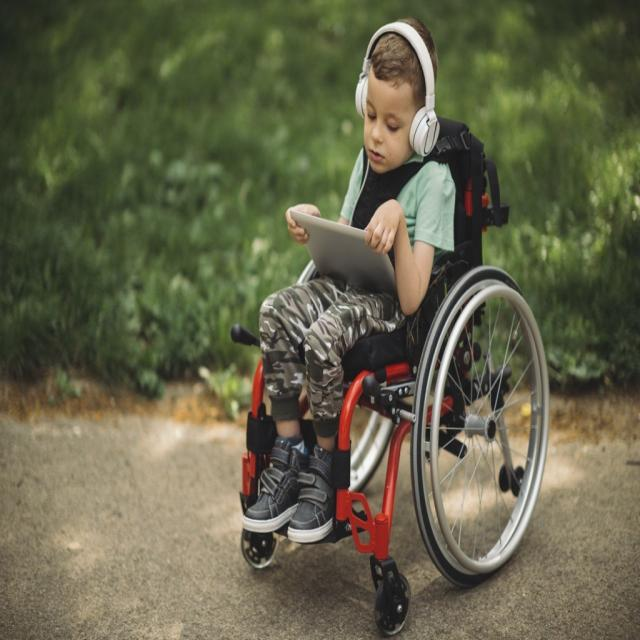wheelchairs: (229, 144, 556, 630)
